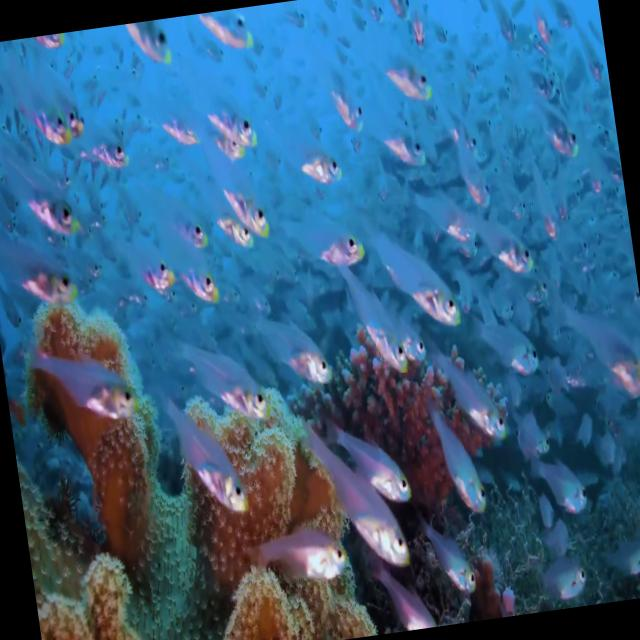fish: (294, 412, 412, 573), (368, 213, 468, 342), (168, 406, 258, 530), (42, 329, 142, 426), (432, 335, 511, 454), (342, 256, 416, 376), (248, 297, 336, 397), (431, 397, 494, 517), (256, 520, 353, 592), (472, 306, 550, 391), (421, 505, 481, 608), (210, 159, 272, 237)
